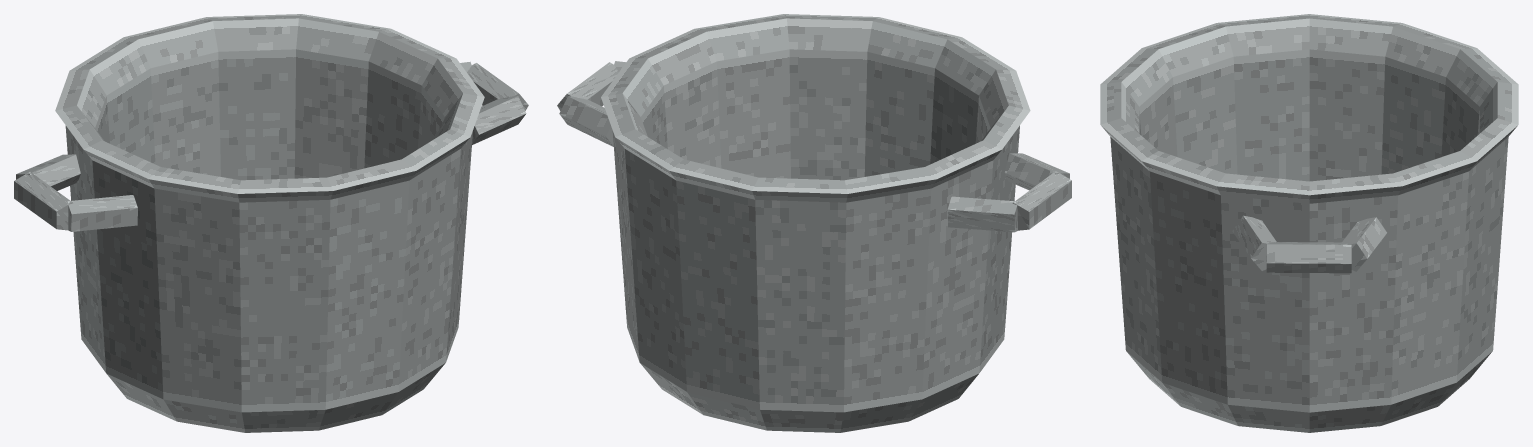
The model's file is pot_aluminum.glb.
The picture shows the model from 3 angles, left to right: view 1: azimuth 30°, elevation 25°; view 2: azimuth 150°, elevation 25°; view 3: azimuth 270°, elevation 25°; orthographic projection.
Visible parts, largest first — view 1: block_open metal pot, block_pot handle 2 (×2), block_pot handle 1 (×2), block_pot handle 0; view 2: block_open metal pot, block_pot handle 0 (×2), block_pot handle 1 (×2), block_pot handle 2; view 3: block_open metal pot, block_pot handle 1, block_pot handle 2, block_pot handle 0.
Part boxes in pixels (box(x1,y1,x2,y2)): block_open metal pot: box(55, 14, 484, 432); block_pot handle 2 (×2): box(67, 96, 526, 231); block_pot handle 1 (×2): box(14, 63, 528, 230); block_pot handle 0: box(16, 154, 80, 190); block_open metal pot: box(601, 14, 1030, 432); block_pot handle 0 (×2): box(559, 96, 1018, 232); block_pot handle 1 (×2): box(557, 62, 1071, 230); block_pot handle 2: box(1005, 153, 1069, 190); block_open metal pot: box(1100, 14, 1518, 432); block_pot handle 1: box(1266, 242, 1351, 273); block_pot handle 2: box(1232, 215, 1276, 270); block_pot handle 0: box(1342, 217, 1386, 271).
Size of the model in its own units: 0.23 by 0.1231 by 0.1771.
2 materials, 2 textured.
